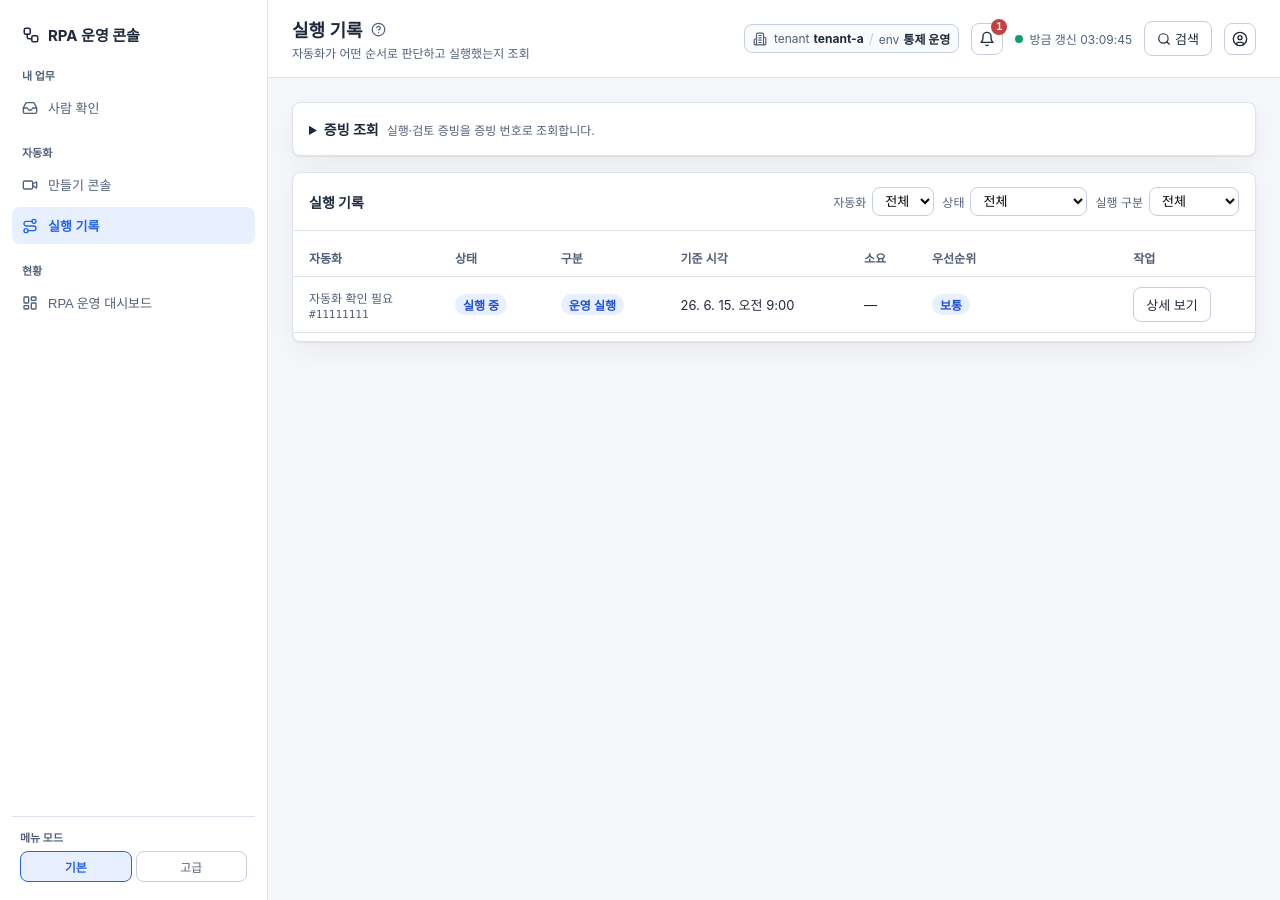
Test: 단계 트레이스 — 셀프힐링 서사 (B) › FR-13: 단계가 없으면 기록 부재 가능성을 명시
Click the button with aria-label "실행 추적 상세 보기".
click(1172, 304)  # box top-left (1133, 287), bottom-right (1211, 322)
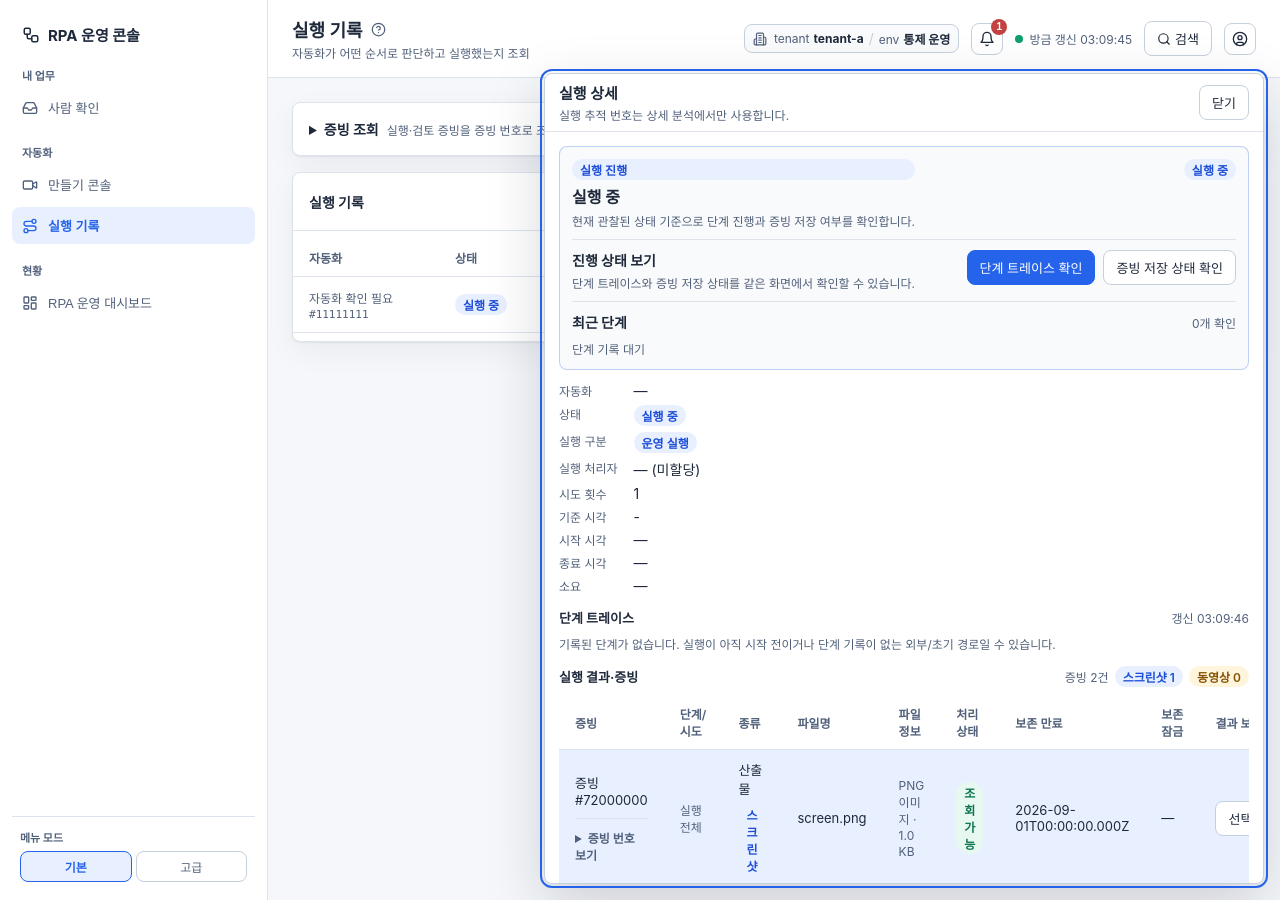
Expected: the text "기록된 단계가 없습니다. 실행이 아직 시작 전이거나 단계 기록이 없는 외부/초기 경로일 수 있습니다." is shown, top-left (559, 637), bottom-right (1056, 652)
